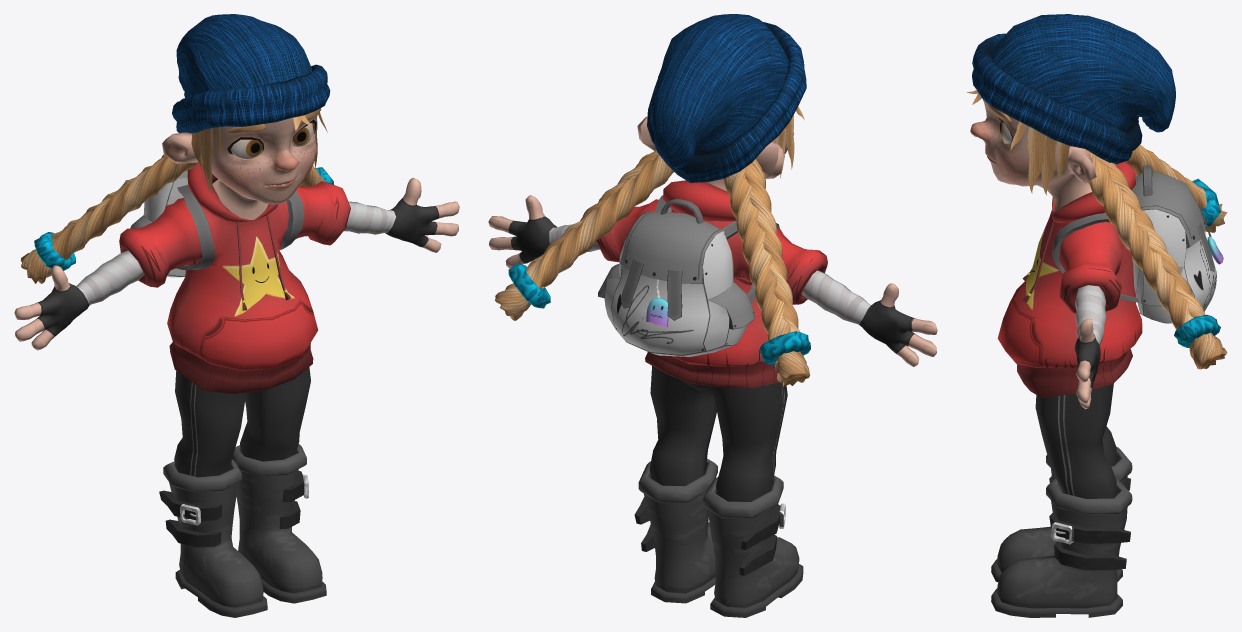
The model's file is Jesse.fbx.
The picture shows the model from 3 angles, left to right: view 1: azimuth 30°, elevation 25°; view 2: azimuth 150°, elevation 25°; view 3: azimuth 270°, elevation 25°; orthographic projection. The views are drawn at different scales.
Parts seen in each view (by area): view 1: polySurface169; view 2: polySurface169; view 3: polySurface169.
Boxes of the visible parts, x1,y1,x2,y2 form: polySurface169: [14, 14, 459, 617]; polySurface169: [488, 14, 937, 617]; polySurface169: [967, 14, 1227, 617].
Size of the model in its own units: 32.51 by 39.29 by 16.24.
